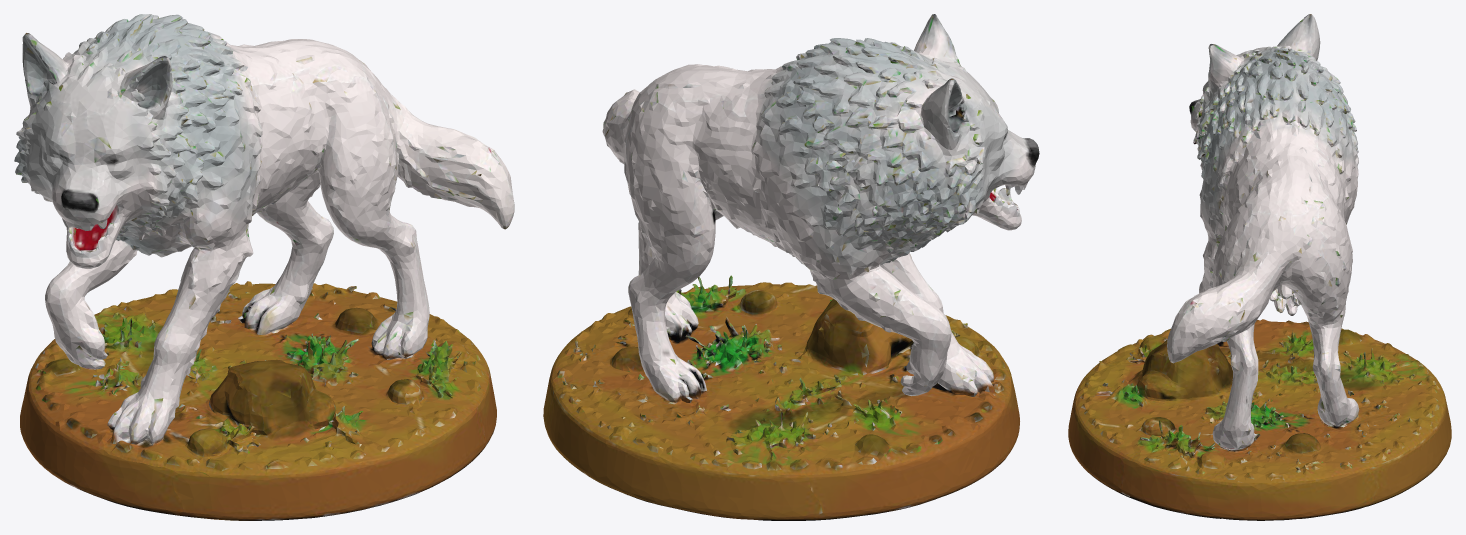
Rendered from lobo_cinzento_pintado.glb.
The picture shows the model from 3 angles, left to right: view 1: azimuth 30°, elevation 25°; view 2: azimuth 150°, elevation 25°; view 3: azimuth 270°, elevation 25°; orthographic projection. The views are drawn at different scales.
Parts seen in each view (by area): view 1: tmpi9npmgii.ply; view 2: tmpi9npmgii.ply; view 3: tmpi9npmgii.ply.
Part boxes in pixels (x1,y1,x2,y2): tmpi9npmgii.ply: (14,14,514,520); tmpi9npmgii.ply: (543,14,1039,520); tmpi9npmgii.ply: (1068,14,1451,520).
Bounding box in the file's own units: 1.96 × 1.82 × 1.83.
Materials: 1 (1 with a texture image).
